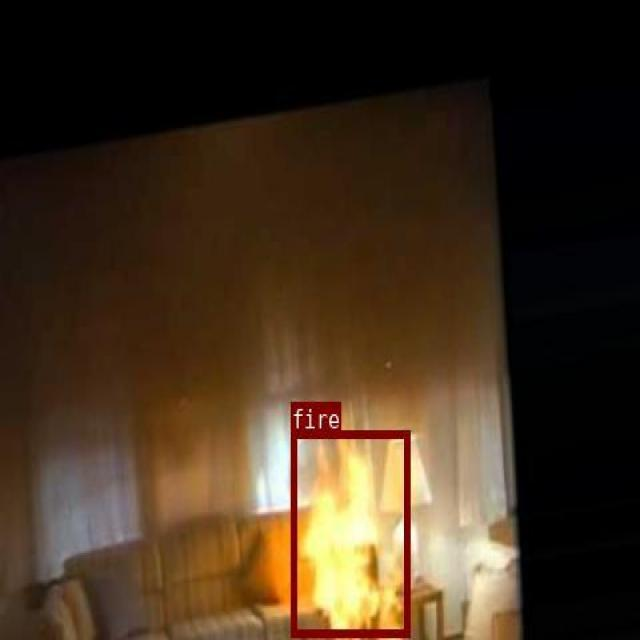fire: (291, 430, 409, 636)
